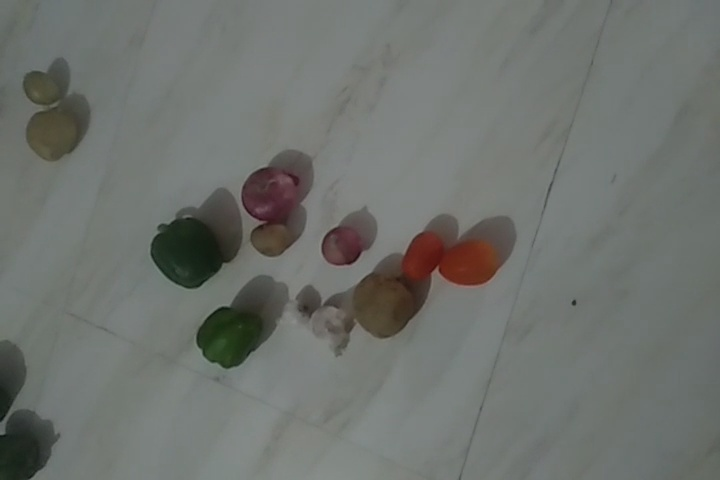capsicum: (152, 219, 221, 295), (199, 313, 260, 363), (1, 437, 50, 478)
garlic: (310, 307, 353, 359), (279, 301, 313, 334)
onion: (238, 168, 293, 217), (326, 234, 364, 262)
potato: (358, 273, 408, 335), (25, 108, 79, 160), (20, 71, 69, 103), (248, 224, 285, 257)
tomato: (443, 241, 501, 289), (401, 229, 440, 280)
